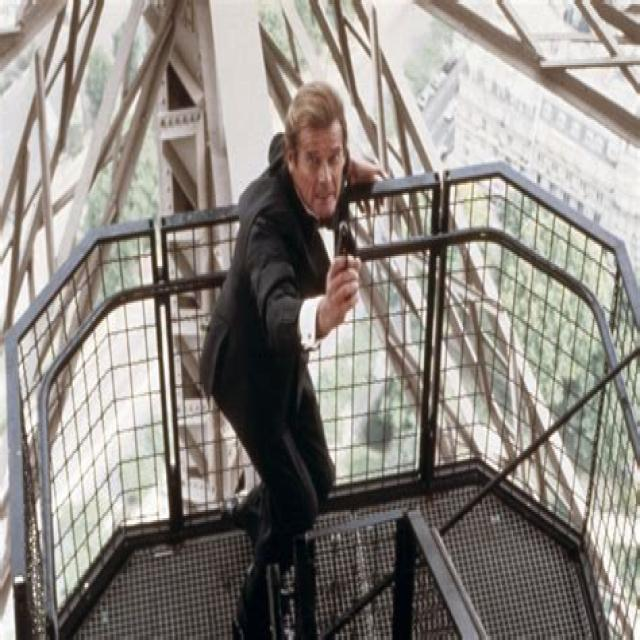weapons: (321, 199, 368, 324)
